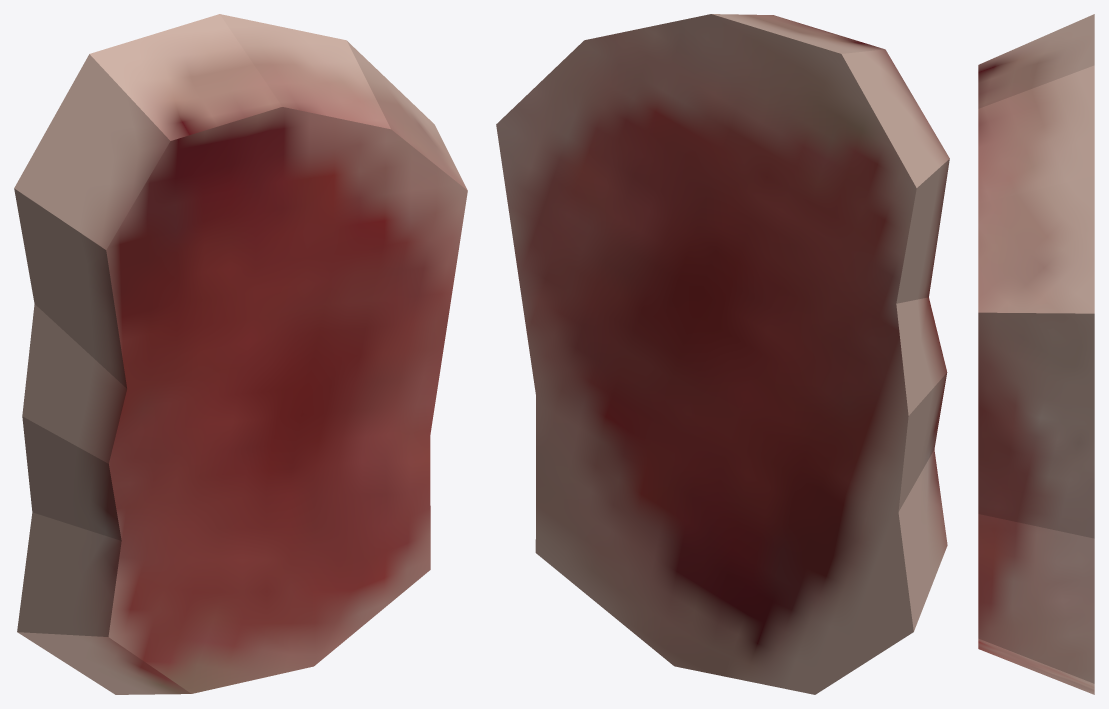
Rendered from ManMeet.dae.
3 views of the same model, side by side, from view 1: azimuth 30°, elevation 25°; view 2: azimuth 150°, elevation 25°; view 3: azimuth 270°, elevation 25° (orthographic). The views are drawn at different scales.
Visible parts, largest first — view 1: XKR; view 2: XKR; view 3: XKR.
Boxes of the visible parts, bbox=[...] form: XKR: bbox=[14, 14, 467, 694]; XKR: bbox=[496, 14, 949, 694]; XKR: bbox=[978, 14, 1094, 694].
Size of the model in its own units: 32.6 by 48.98 by 8.41.
